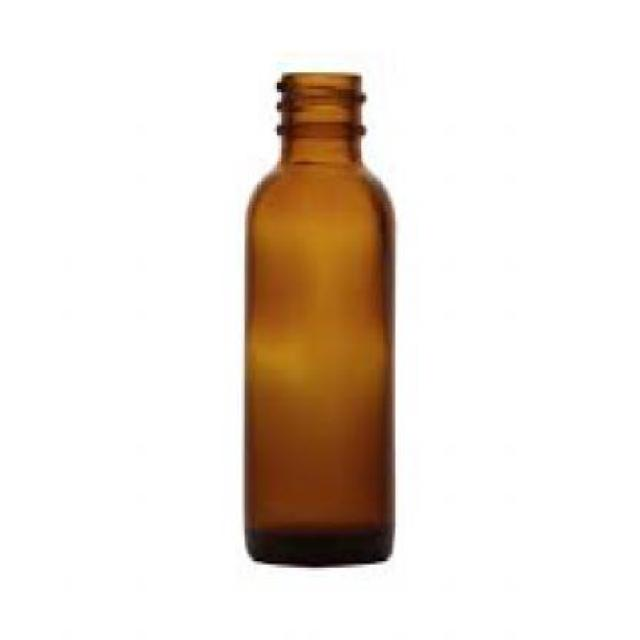GLASS: (242, 72, 393, 565)
